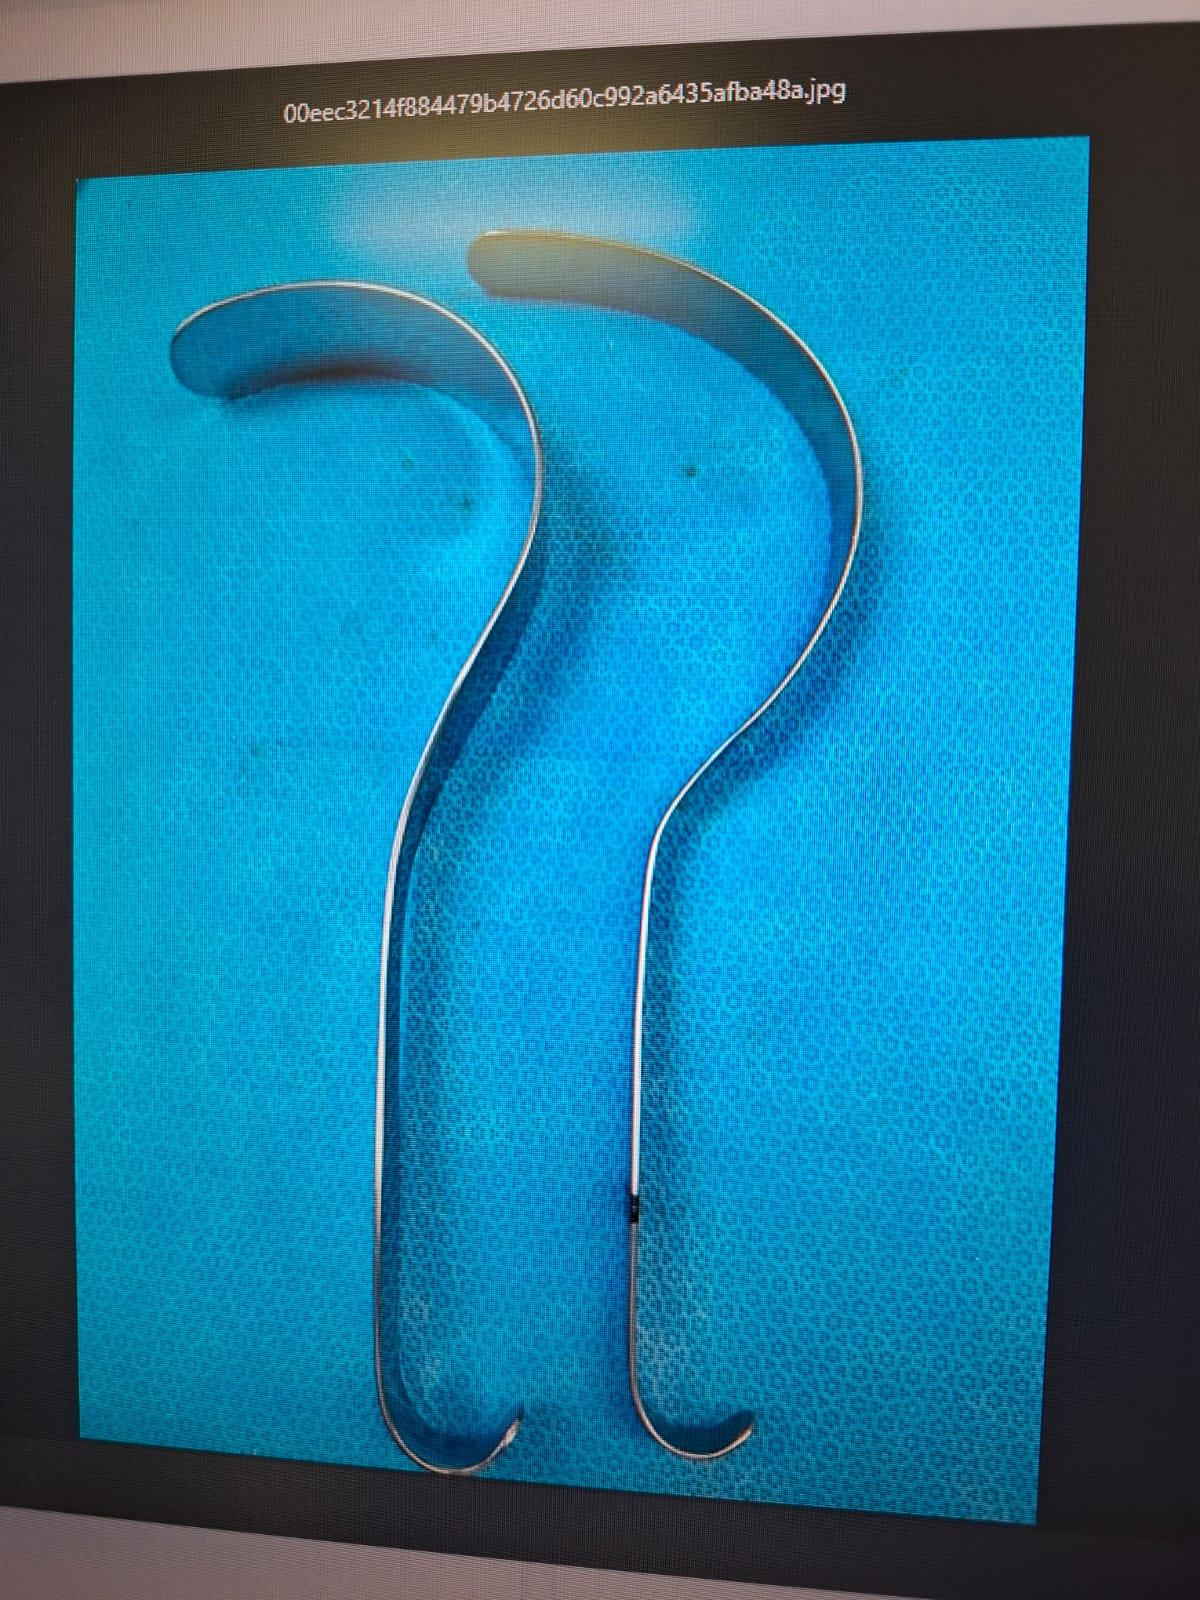Deaver Retractor: (460, 218, 890, 1488), (153, 262, 585, 1480)
